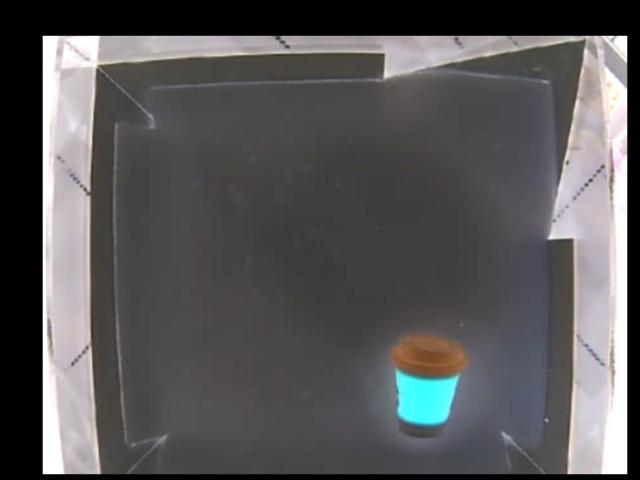Cup: (390, 332, 467, 440)
